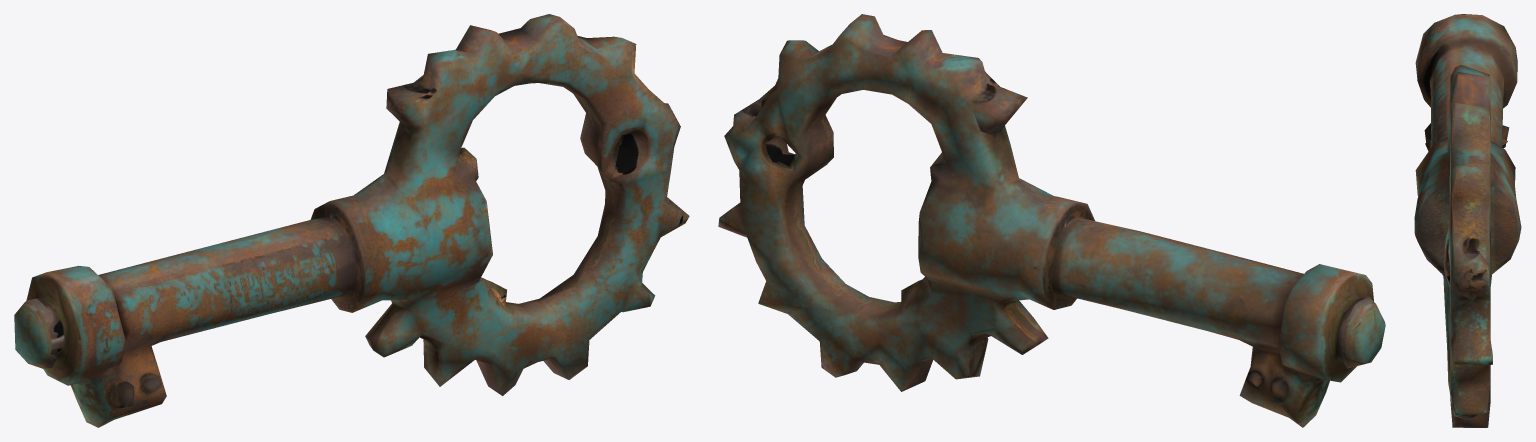
The picture shows the model from 3 angles, left to right: view 1: azimuth 30°, elevation 25°; view 2: azimuth 150°, elevation 25°; view 3: azimuth 270°, elevation 25°; orthographic projection. The views are drawn at different scales.
Parts seen in each view (by area): view 1: Mesh1.0; view 2: Mesh1.0; view 3: Mesh1.0.
Boxes of the visible parts, box(x1,y1,x2,y2) form: Mesh1.0: box(14, 14, 689, 427); Mesh1.0: box(718, 14, 1385, 427); Mesh1.0: box(1414, 14, 1521, 427).
Size of the model in its own units: 200 by 106 by 31.88.
Materials: 1 (1 with a texture image).
